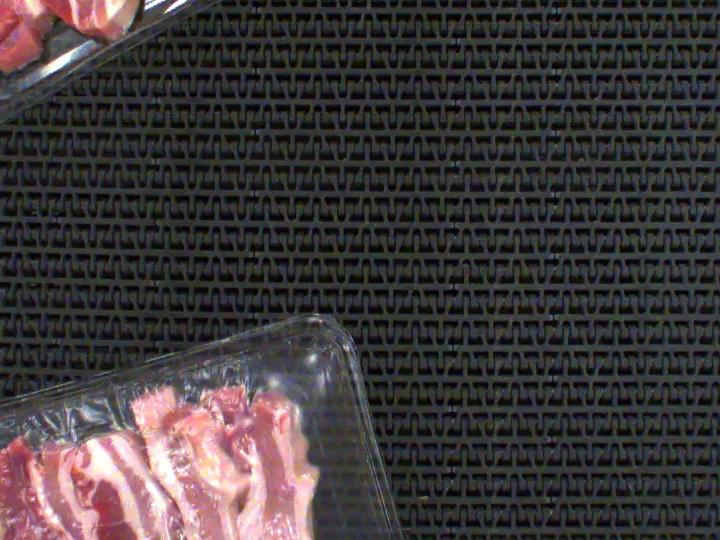unsealed: (0, 338, 389, 540)
